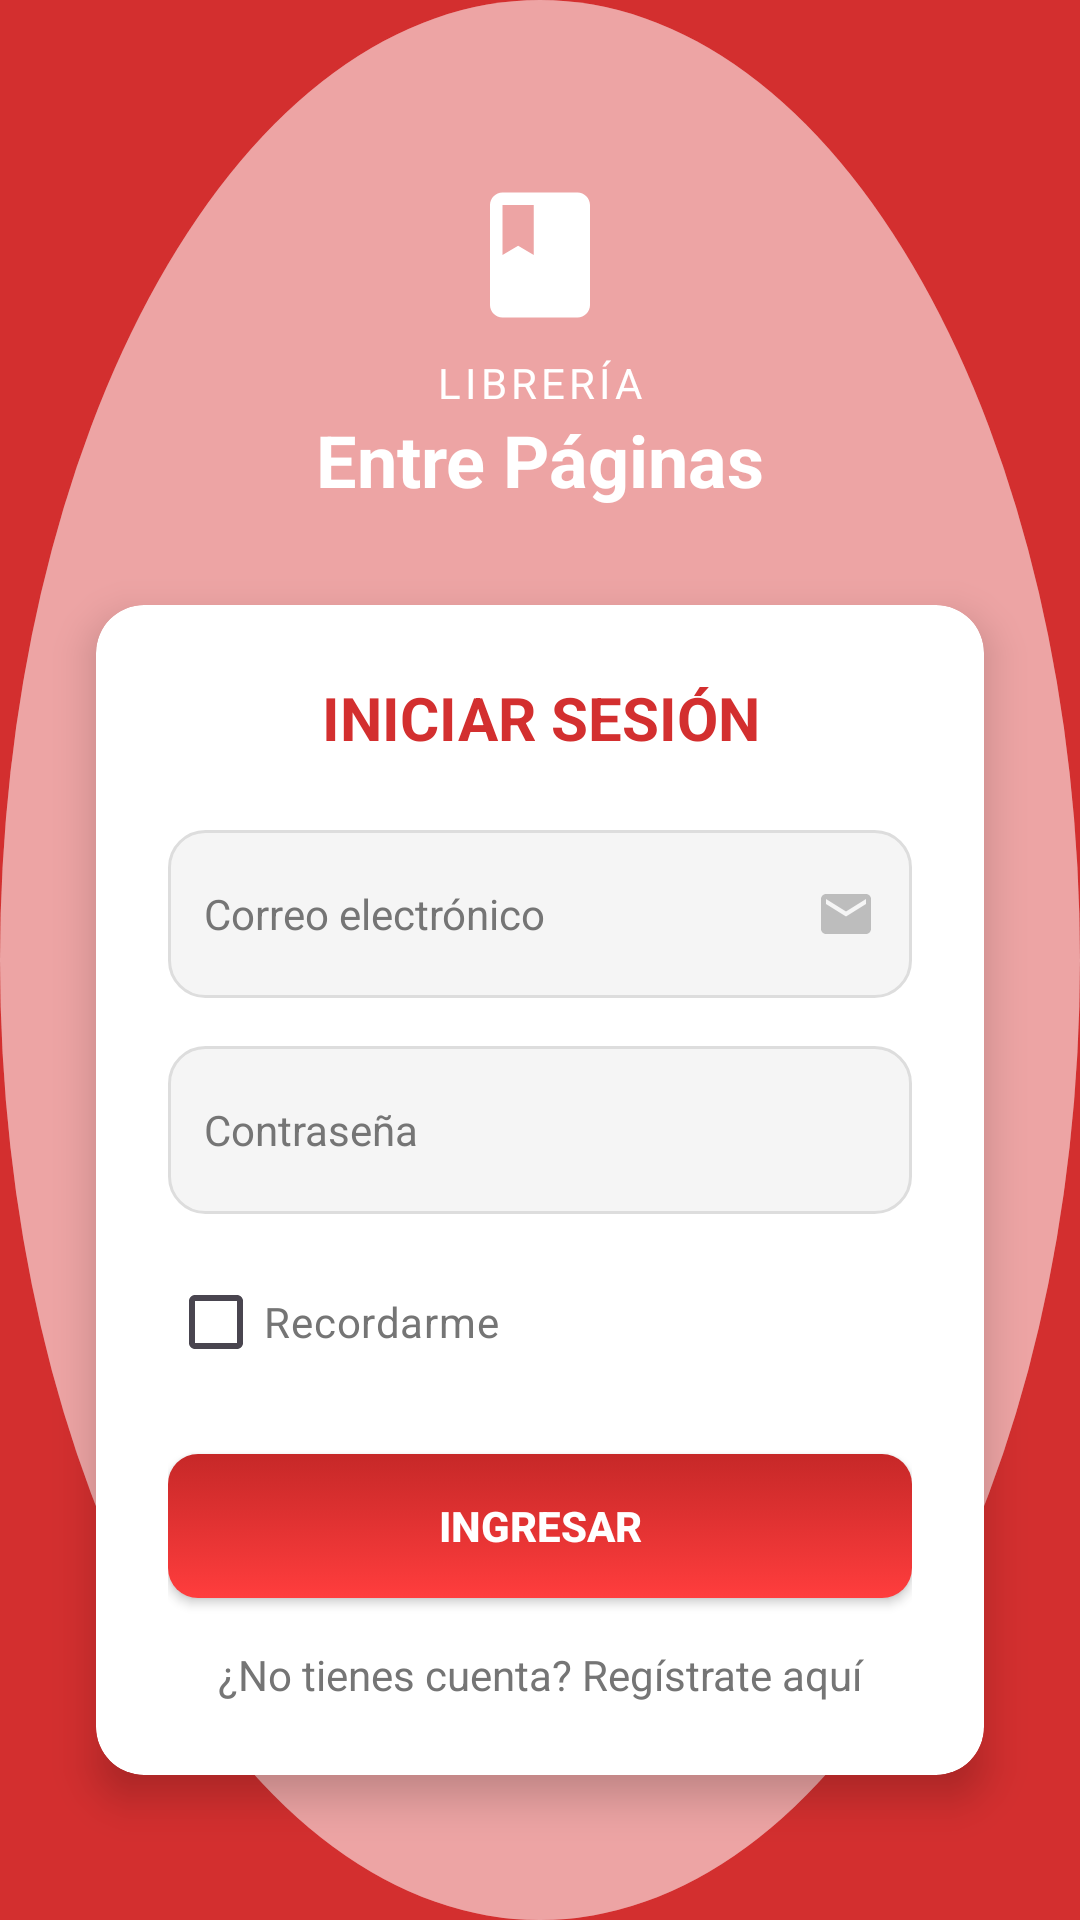

Icon click points for this 1080×1920 phone screenshot, format (x,y):
book: (540,255)
email: (846,914)
